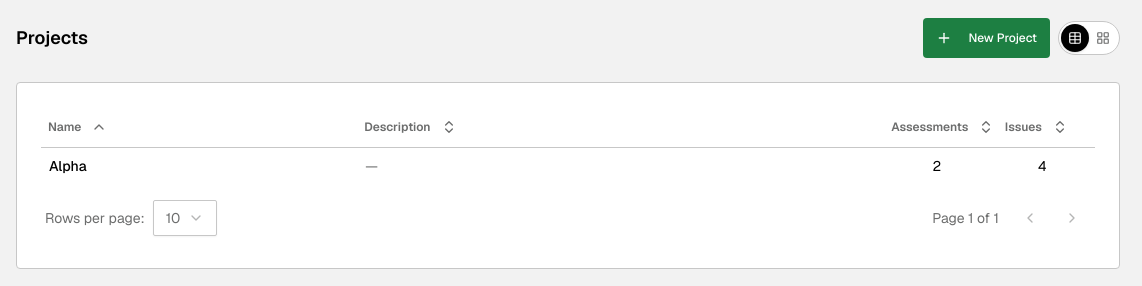
ProjectsListView › switches to grid view when grid toggle clicked
Step 1. Click the button named "grid view" → (1103,38), box [1089,24,1117,52]
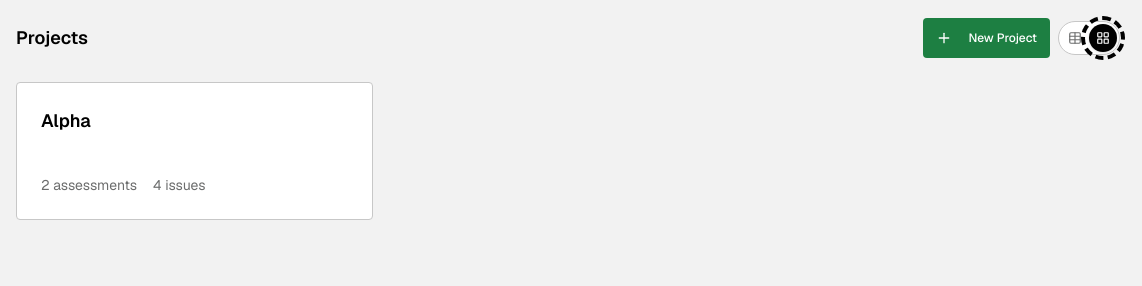
expect the table is gone: met
expect the link "Alpha 2 assessments 4 issues" is shown: met, box [16,82,373,220]
